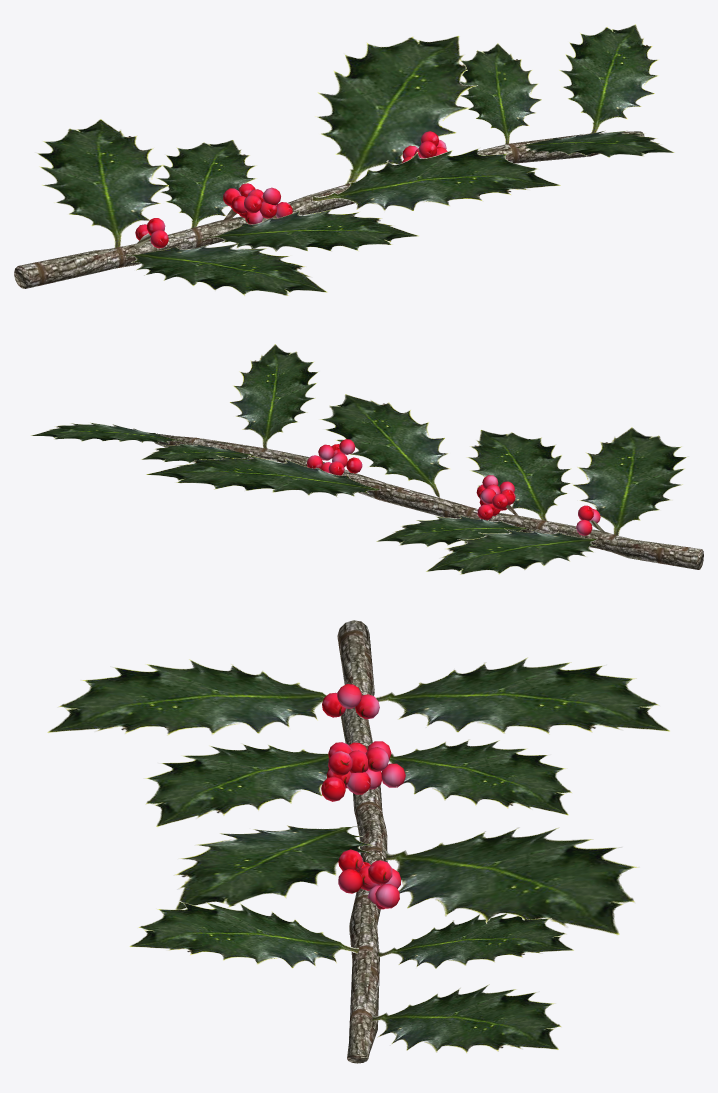
The model's file is HollyBranch.fbx.
3 renders of one model, top to bottom at view 1: azimuth 30°, elevation 25°; view 2: azimuth 150°, elevation 25°; view 3: azimuth 270°, elevation 25°, orthographic. The views are drawn at different scales.
Visible parts, largest first — view 1: default; view 2: default; view 3: default.
Part boxes in pixels (bbox=[...]): default: bbox=[14, 24, 674, 296]; default: bbox=[30, 344, 703, 574]; default: bbox=[47, 620, 669, 1063].
Size of the model in its own units: 225 by 21.23 by 138.
